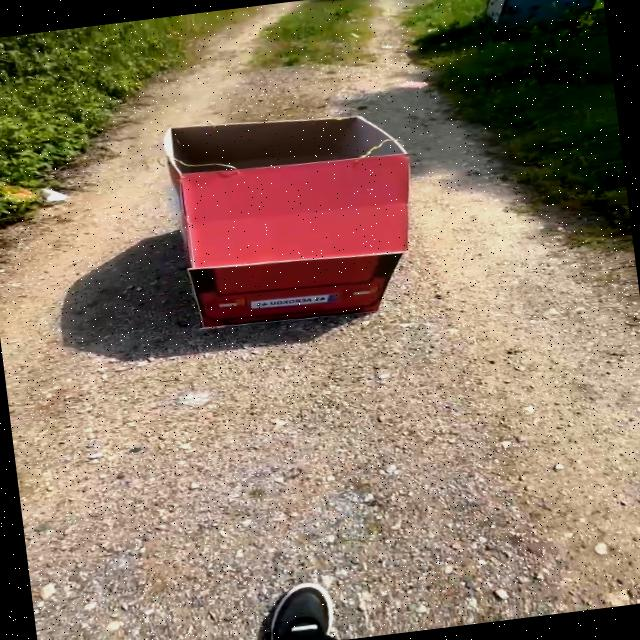red_car: (117, 83, 469, 344)
